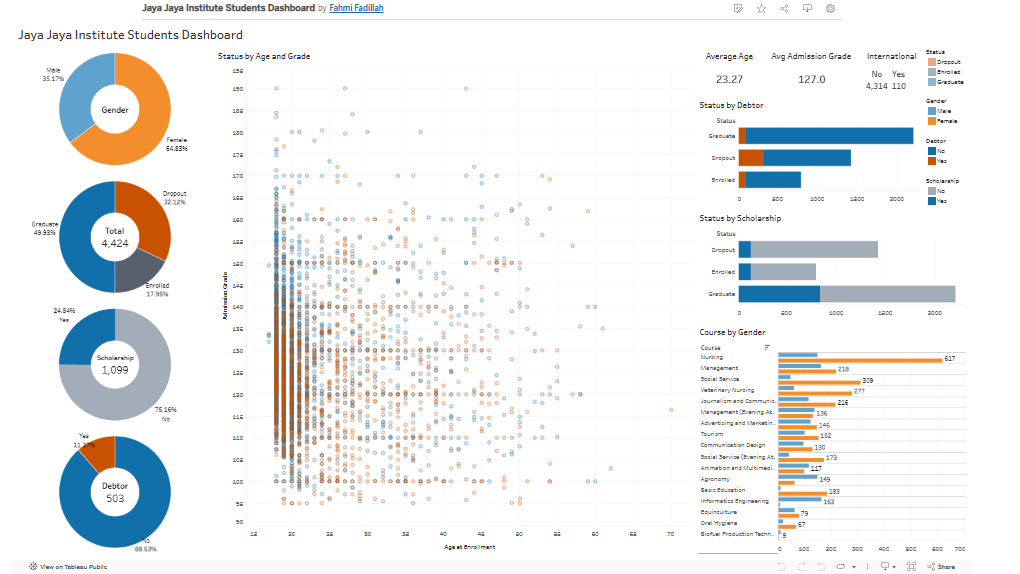

What the dashboard file says about the page in this screenshot:
{"tool":"tableau","page":{"name":"Dropout","canvas":[1920,1080],"ordinal":0},"visuals":[{"type":"title","box":[8,8,1904,41]},{"type":"worksheet","title":"Gender","mark":"Pie","rows":["Calculation_1055549545689113","Calculation_1055549545689113"],"box":[8,49,396.2,255.7]},{"type":"worksheet","title":"Status by Age and Grade","mark":"Automatic","rows":["Admission_grade"],"cols":["Age_at_enrollment"],"box":[404.2,49,962.8,1023]},{"type":"worksheet","title":"Avg Age","mark":"Automatic","box":[1367,49,135,97.1]},{"type":"worksheet","title":"Avg Grade","mark":"Automatic","box":[1502,49,193,97.1]},{"type":"worksheet","title":"International","mark":"Automatic","box":[1695,49,129,97.1]},{"type":"legend","title":"Status by Age and Grade","param":"[federated.0if7jkf1grgtqn10i7km81fcjzp9].[none:Status:nk]","box":[1824,49,88,86]},{"type":"worksheet","title":"Status by Debtor","mark":"Bar","rows":["Status"],"cols":["Debtor"],"box":[1367,146.1,457,227.3]},{"type":"legend","title":"Course by Gender","param":"[federated.0if7jkf1grgtqn10i7km81fcjzp9].[none:Gender:nk]","box":[1824,146.1,88,81]},{"type":"legend","title":"Status by Debtor","param":"[federated.0if7jkf1grgtqn10i7km81fcjzp9].[none:Debtor:nk]","box":[1824,227.1,88,79]},{"type":"worksheet","title":"Status","mark":"Pie","rows":["Calculation_1055549555798053","Calculation_1055549555810343"],"box":[8,304.7,396.2,255.8]},{"type":"legend","title":"Status by Scholarship","param":"[federated.0if7jkf1grgtqn10i7km81fcjzp9].[none:Scholarship_holder:nk]","box":[1824,306.1,88,66]},{"type":"worksheet","title":"Status by Scholarship","mark":"Automatic","rows":["Status"],"cols":["Scholarship_holder"],"box":[1367,373.5,545,227.3]},{"type":"worksheet","title":"Scholarship","mark":"Pie","rows":["Calculation_1055549557358633","Calculation_1055549557358633"],"box":[8,560.5,396.2,255.7]},{"type":"worksheet","title":"Course by Gender","mark":"Automatic","rows":["Course","Gender"],"cols":["Course"],"box":[1367,600.8,545,471.2]},{"type":"worksheet","title":"Debtor","mark":"Pie","rows":["Calculation_1055549548302363","Calculation_1055549548302363"],"box":[8,816.2,396.2,255.8]}]}

Visuals, with their boxes on the page's 1920x1080 design canvas (x1, y1, x2, y2). These are canvas units, not pixel positions in the 1020x574 screenshot, which may show the page scaled, cropped or inside an application window:
title: select_region(8, 8, 1912, 49)
"Gender" worksheet (Pie marks): select_region(8, 49, 404, 305)
"Status by Age and Grade" worksheet: select_region(404, 49, 1367, 1072)
"Avg Age" worksheet: select_region(1367, 49, 1502, 146)
"Avg Grade" worksheet: select_region(1502, 49, 1695, 146)
"International" worksheet: select_region(1695, 49, 1824, 146)
"Status by Age and Grade" legend: select_region(1824, 49, 1912, 135)
"Status by Debtor" worksheet (Bar marks): select_region(1367, 146, 1824, 373)
"Course by Gender" legend: select_region(1824, 146, 1912, 227)
"Status by Debtor" legend: select_region(1824, 227, 1912, 306)
"Status" worksheet (Pie marks): select_region(8, 305, 404, 560)
"Status by Scholarship" legend: select_region(1824, 306, 1912, 372)
"Status by Scholarship" worksheet: select_region(1367, 374, 1912, 601)
"Scholarship" worksheet (Pie marks): select_region(8, 560, 404, 816)
"Course by Gender" worksheet: select_region(1367, 601, 1912, 1072)
"Debtor" worksheet (Pie marks): select_region(8, 816, 404, 1072)
